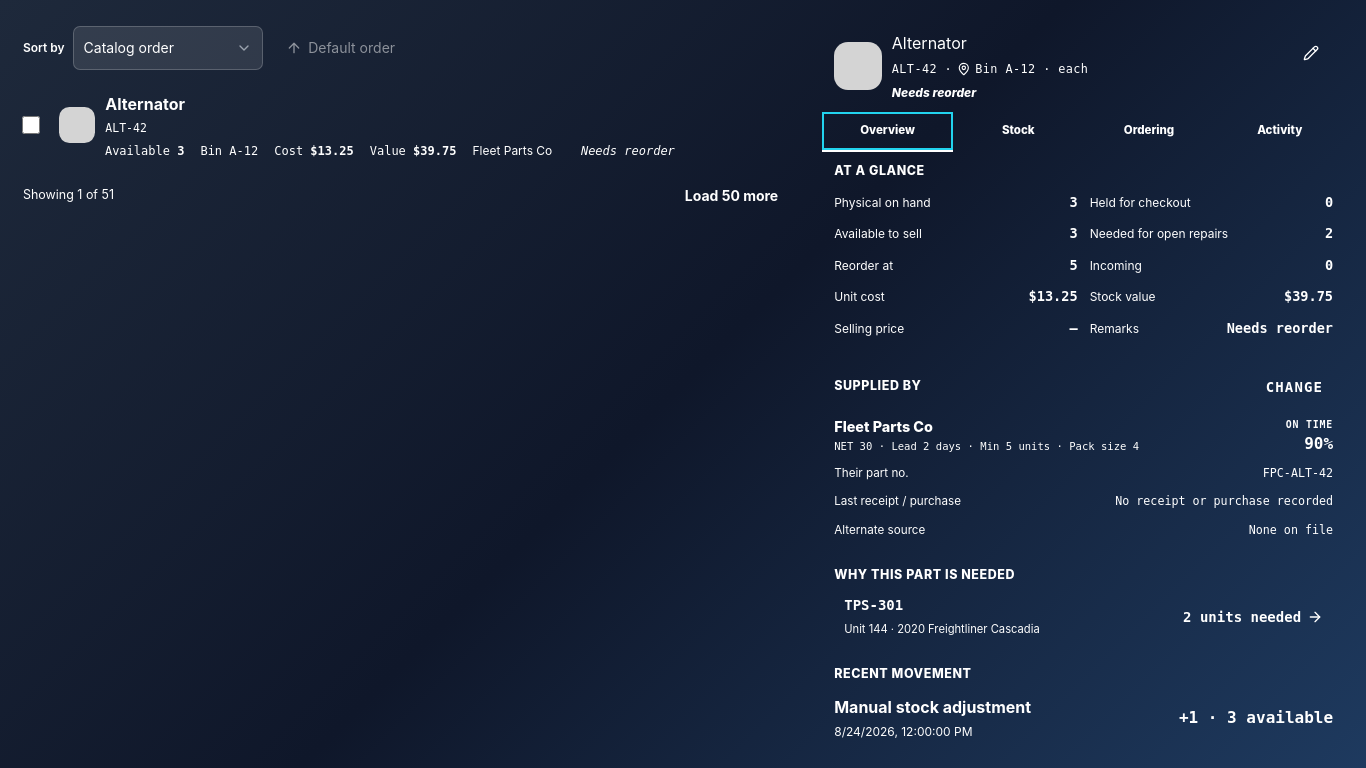
Test: DB-038 Parts & inventory workspace › owns inspector detail with four keyboard-operable sections and resets new selections to Overview
The width and height of the screenshot is (1366, 768).
(page scrolled)
Expected: the heading "Alternator" is shown, [892,33,967,53]
Expected: the tabs read "Overview", "Stock", "Ordering", "Activity", in this order, [822,112,953,152]; [953,112,1084,152]; [1084,112,1214,152]; [1214,112,1345,152]
Press Arrowright
(page scrolled)
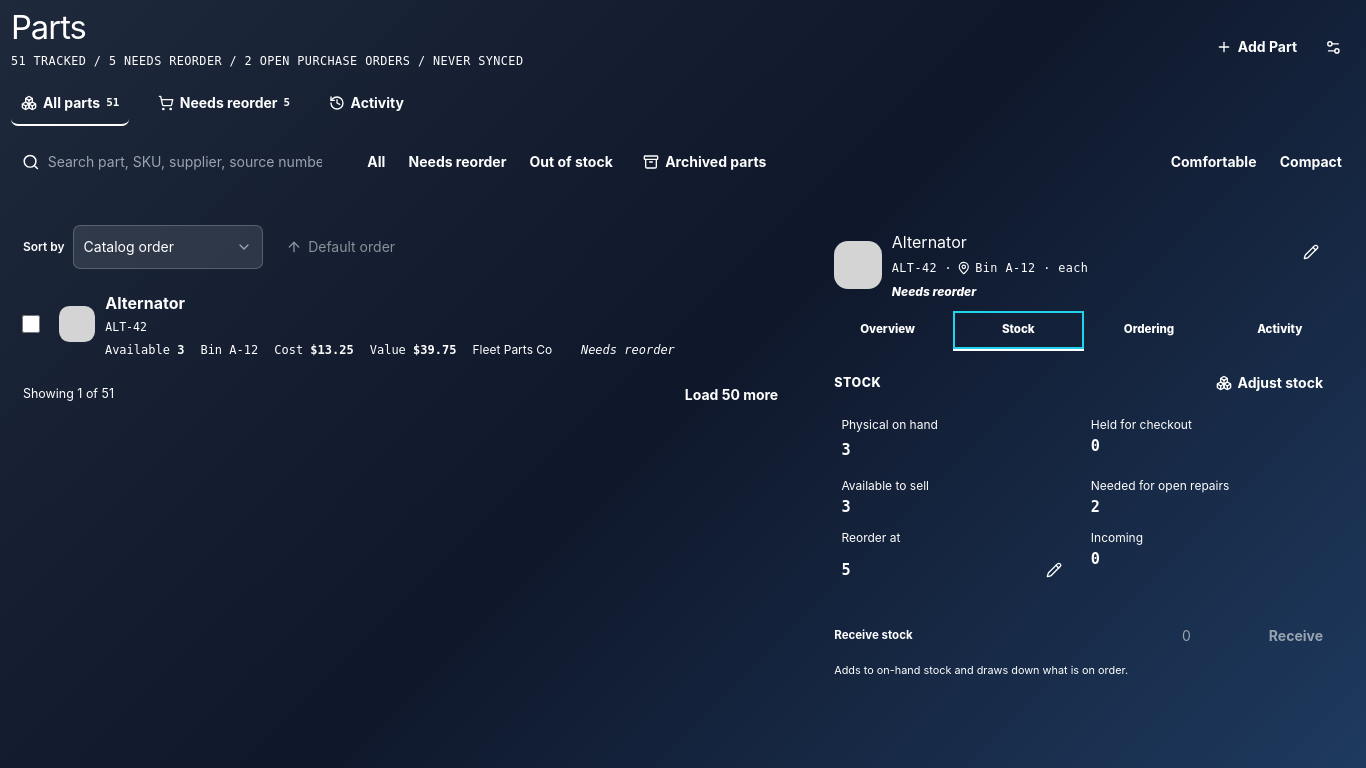
Expected: the panel "Stock" shows "Needed for open repairs", [1091,478,1229,493]
Expected: the tab "Stock" is selected, [953,311,1084,351]
Press End
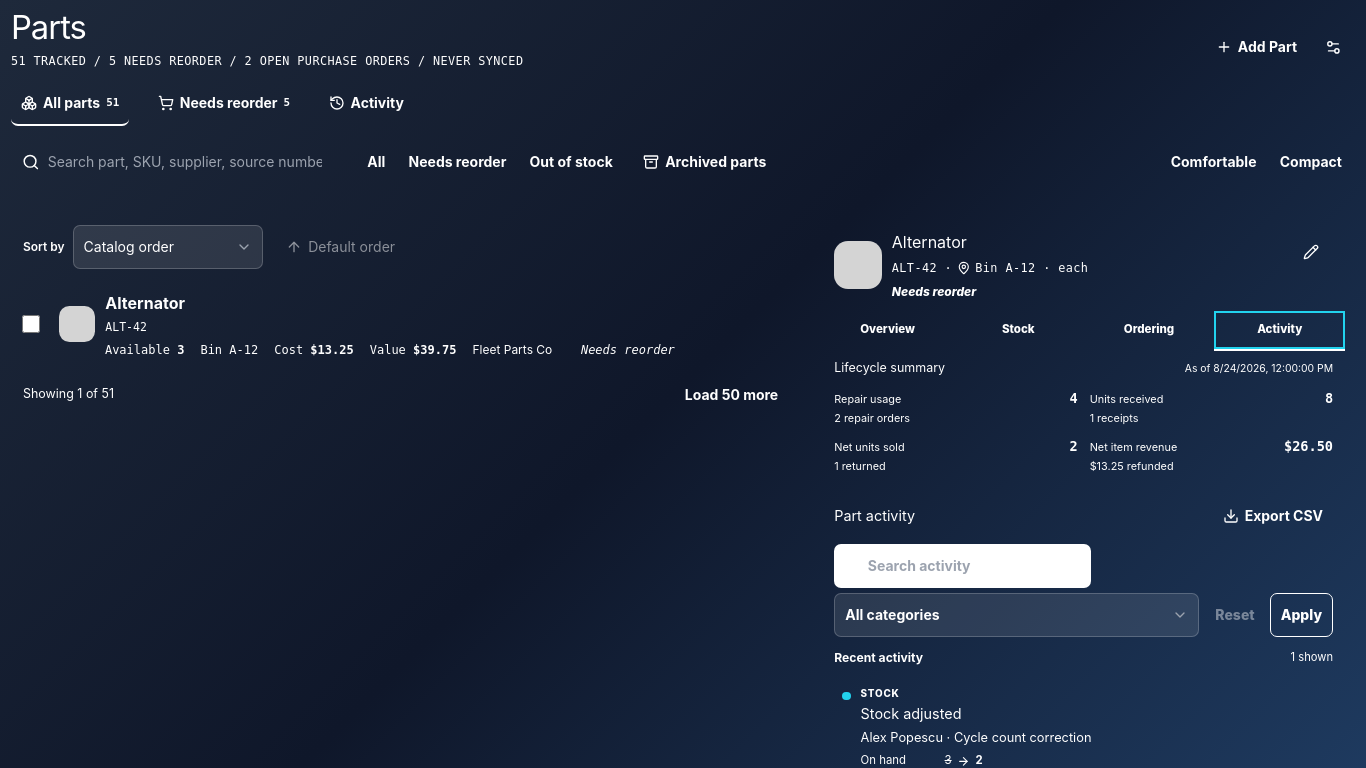
Expected: the heading "Lifecycle summary" is shown, [834,359,945,378]
Expected: the heading "Stock adjusted" is shown, [861,705,962,722]
Type "brake" into the search field named "Search parts" at (192, 162), box [48,141,336,183]
(page scrolled)
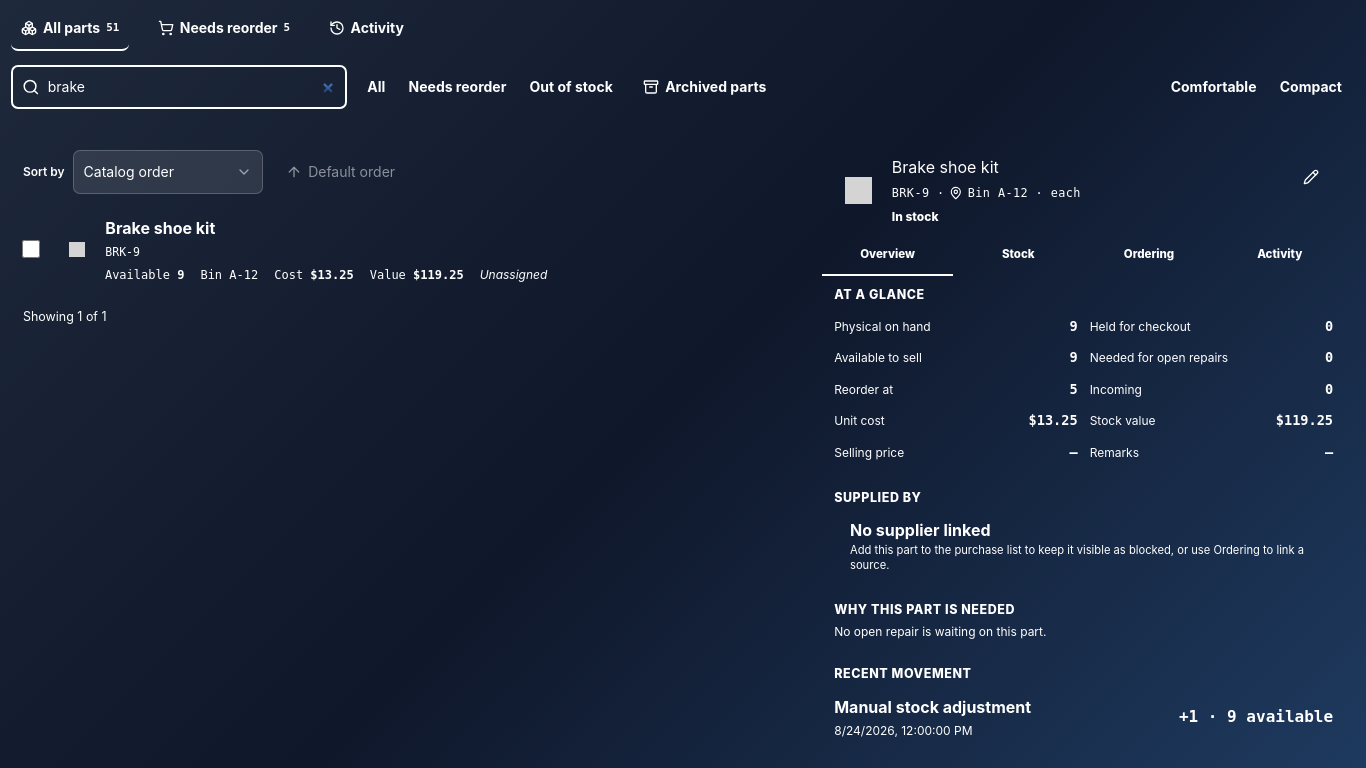
Expected: the heading "Brake shoe kit" is shown, [892,157,999,177]
Expected: the panel named "Overview" shows "No open repair is waiting on this part.", [834,624,1046,639]
